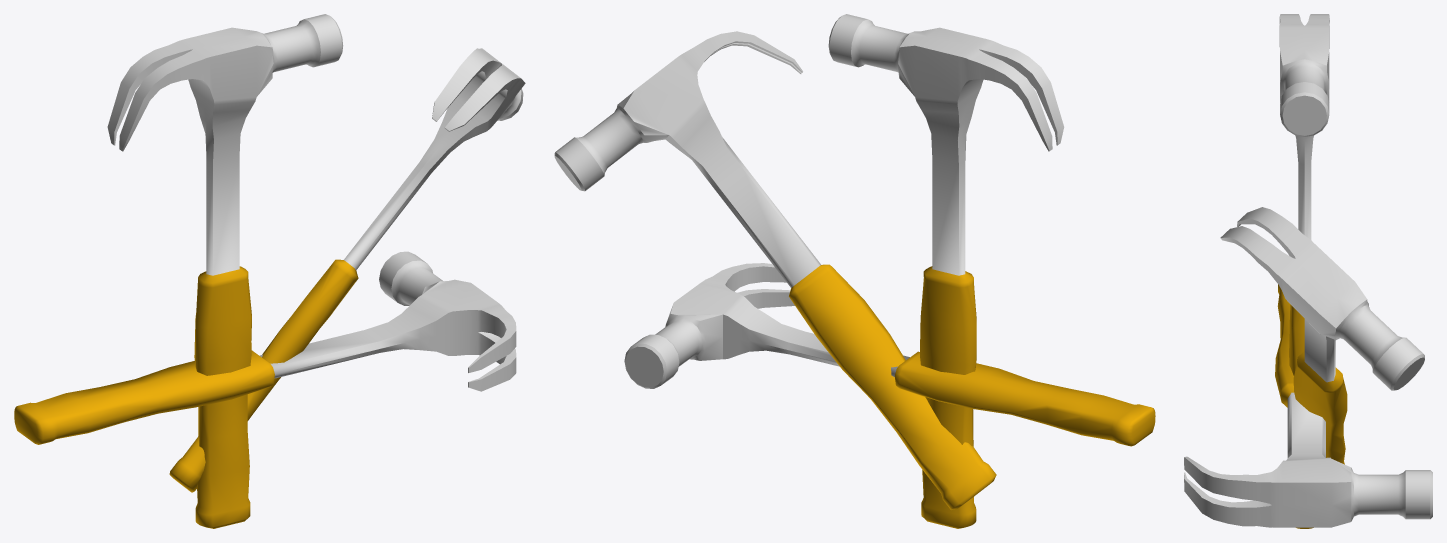
The model's file is ClawHammerMesh.fbx.
The picture shows the model from 3 angles, left to right: view 1: azimuth 30°, elevation 25°; view 2: azimuth 150°, elevation 25°; view 3: azimuth 270°, elevation 25°; orthographic projection.
Visible parts, largest first — view 1: Cylinder, Cylinder.005, Cylinder.004; view 2: Cylinder.004, Cylinder, Cylinder.005; view 3: Cylinder.005, Cylinder.004, Cylinder.
Boxes of the visible parts, x1,y1,x2,y2 form: Cylinder: [107, 14, 343, 528]; Cylinder.005: [14, 251, 516, 444]; Cylinder.004: [169, 48, 525, 492]; Cylinder.004: [554, 31, 996, 509]; Cylinder: [828, 14, 1064, 528]; Cylinder.005: [624, 263, 1155, 446]; Cylinder.005: [1184, 284, 1432, 527]; Cylinder.004: [1220, 207, 1424, 464]; Cylinder: [1279, 14, 1329, 528].
Size of the model in its own units: 2583 by 2182 by 1027.
